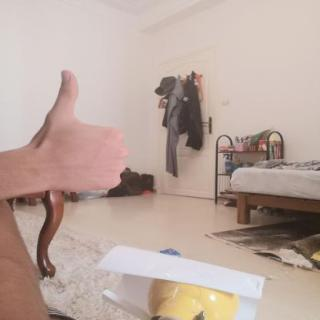ALIF: (21, 61, 138, 208)
